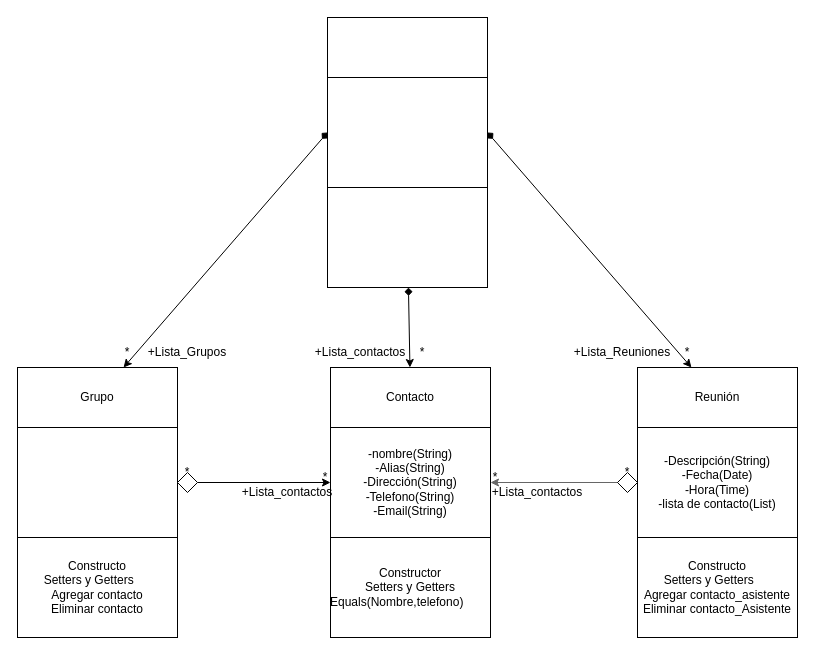
Image size: 815x655. Some labels were removed from this diagram. The shapes that lost their labels are listed below. From the top down, each one's centre as x and y in pixels, then its label:
point 407,47: Agenda
point 407,237: CRUD
point 97,482: -Nombre(String) -Categoria(String) -Contacto(String) -Participantes_max(Int)
